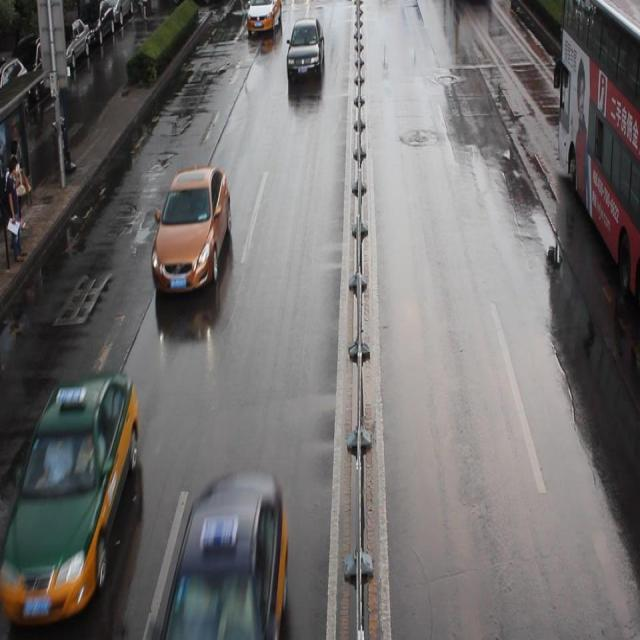car: (0, 370, 140, 624), (162, 470, 288, 640), (152, 165, 231, 292), (286, 18, 324, 79), (246, 1, 281, 36)
van: (557, 1, 640, 312)
